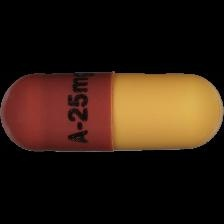0145-0091: (0, 0, 224, 224)
